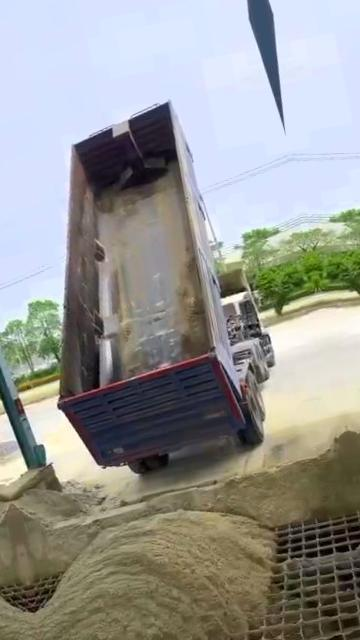sand: (11, 429, 360, 583), (34, 510, 273, 640), (173, 255, 210, 357), (281, 552, 349, 572)
